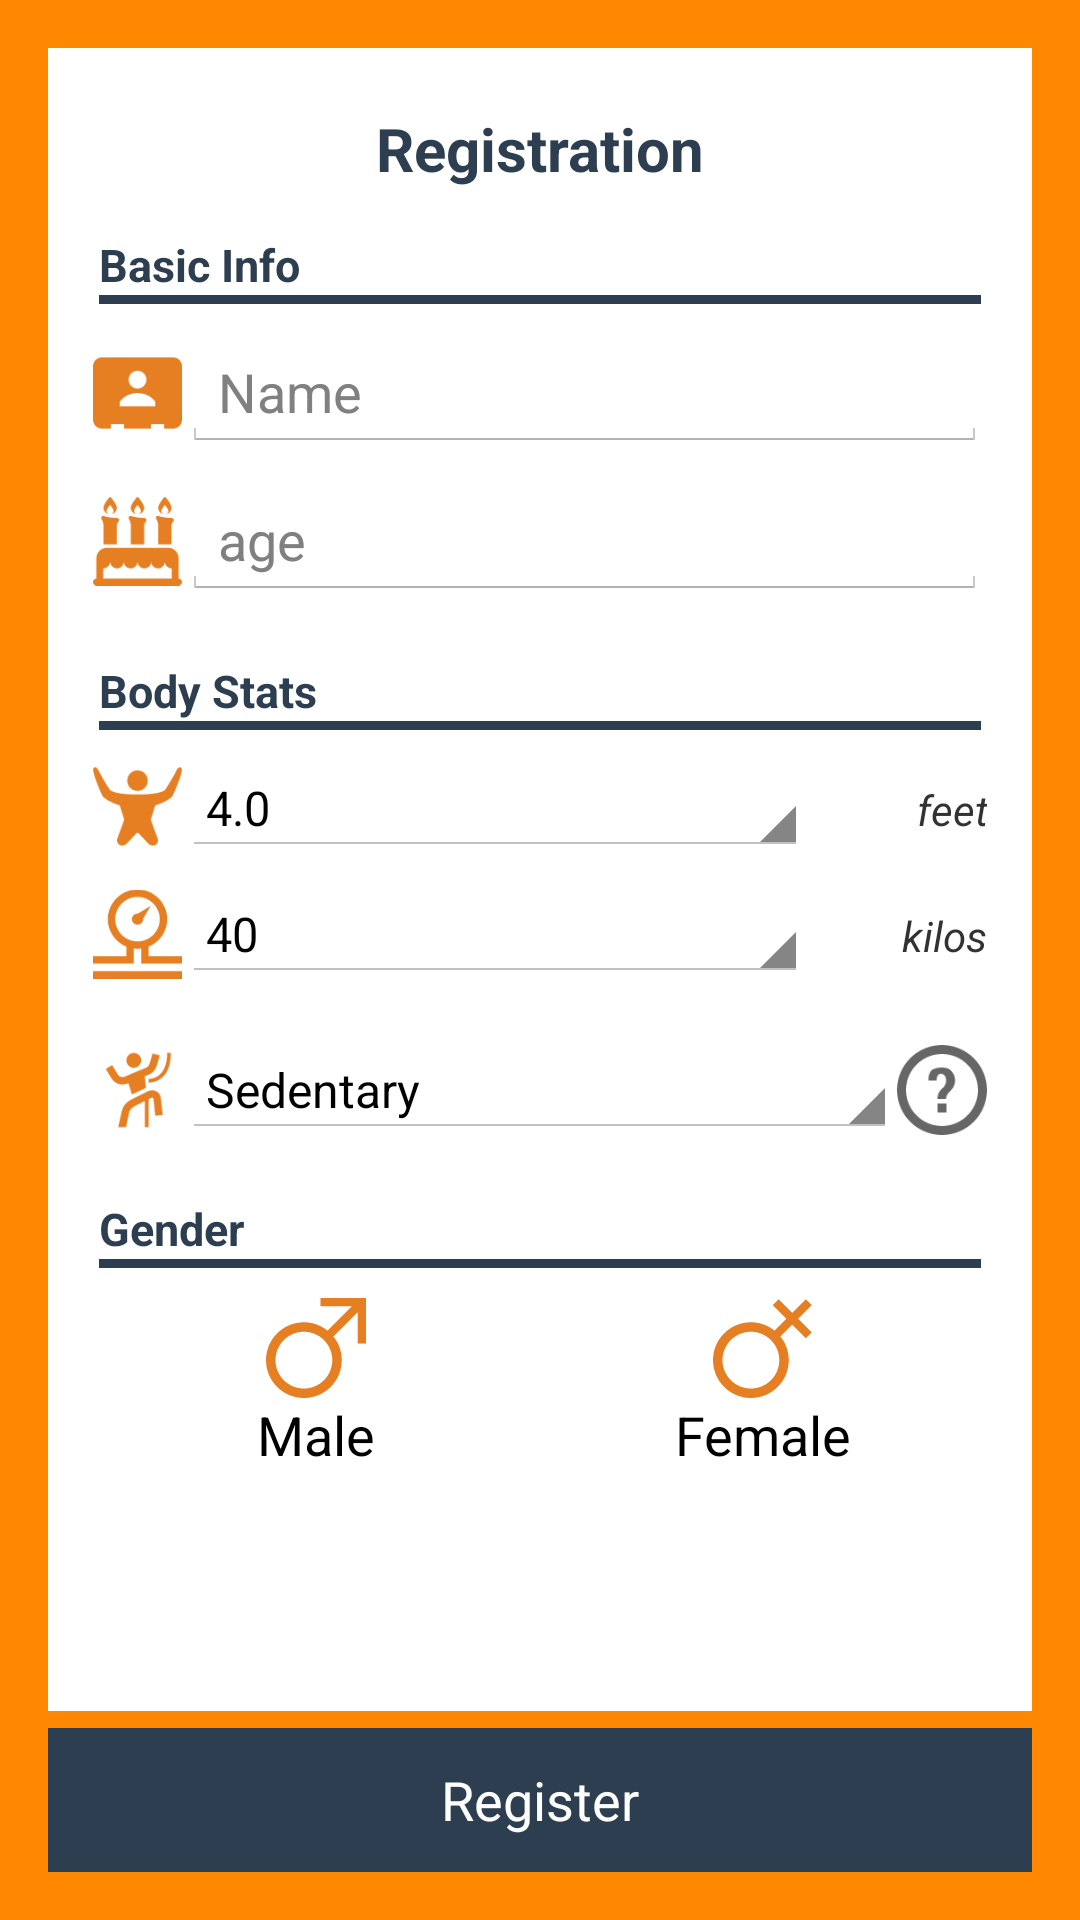

Icon bounding boxes for this 1080px×1920px phone screenshot, format (x1, y1, x2, y2):
activity: (105, 1052, 172, 1128)
help: (897, 1045, 987, 1135)
weight: (93, 890, 182, 979)
